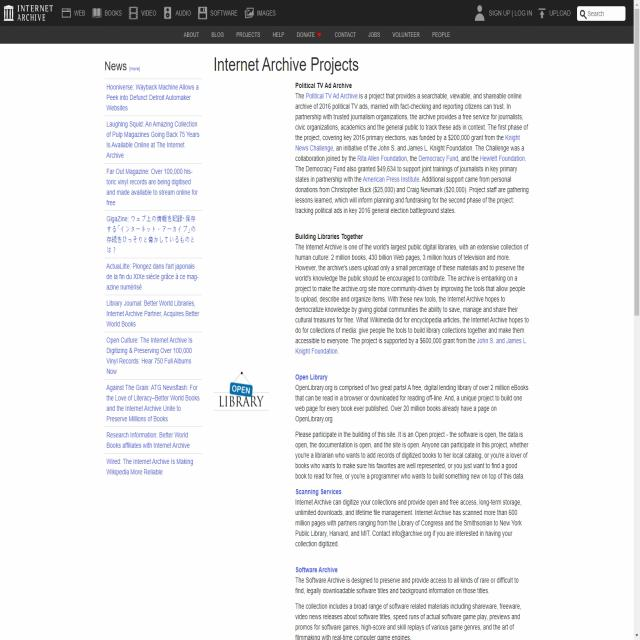menu-panel: (180, 24, 456, 43)
search: (575, 4, 627, 23)
side-panel: (103, 74, 203, 481)
